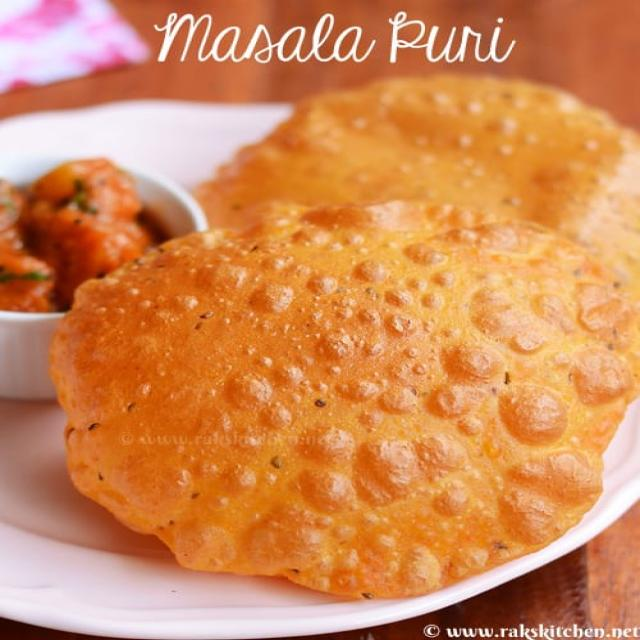poori: (28, 191, 640, 606), (184, 61, 640, 249)
